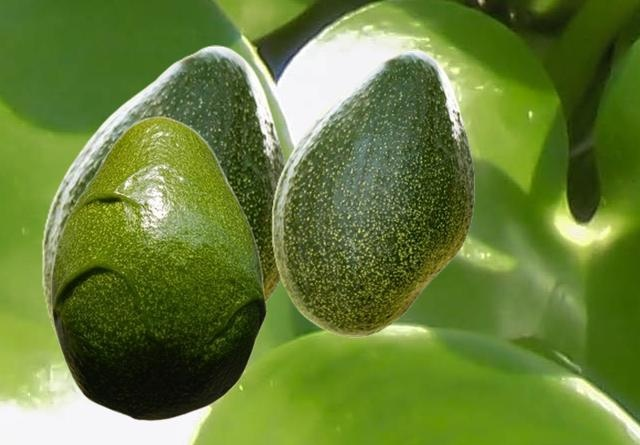avocado: (41, 45, 286, 350), (50, 115, 266, 420), (271, 49, 473, 336)
